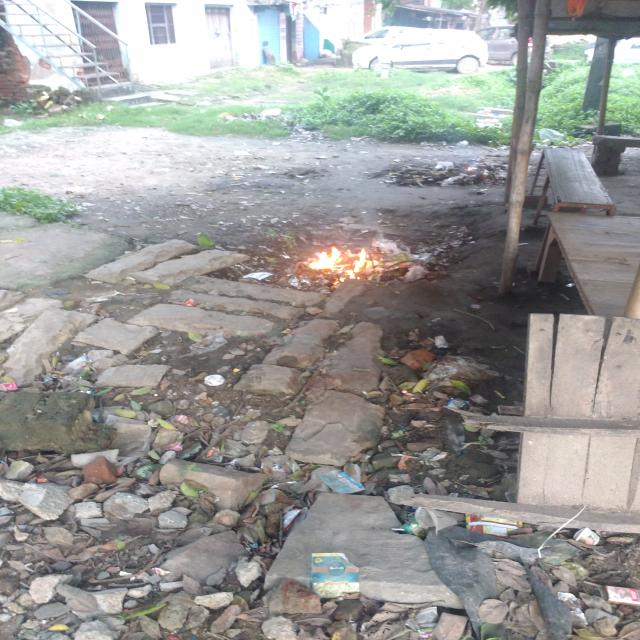firerotation: (305, 243, 381, 283)
